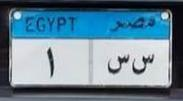1: (45, 45, 57, 80)
seen: (104, 51, 130, 78), (131, 50, 156, 77)
